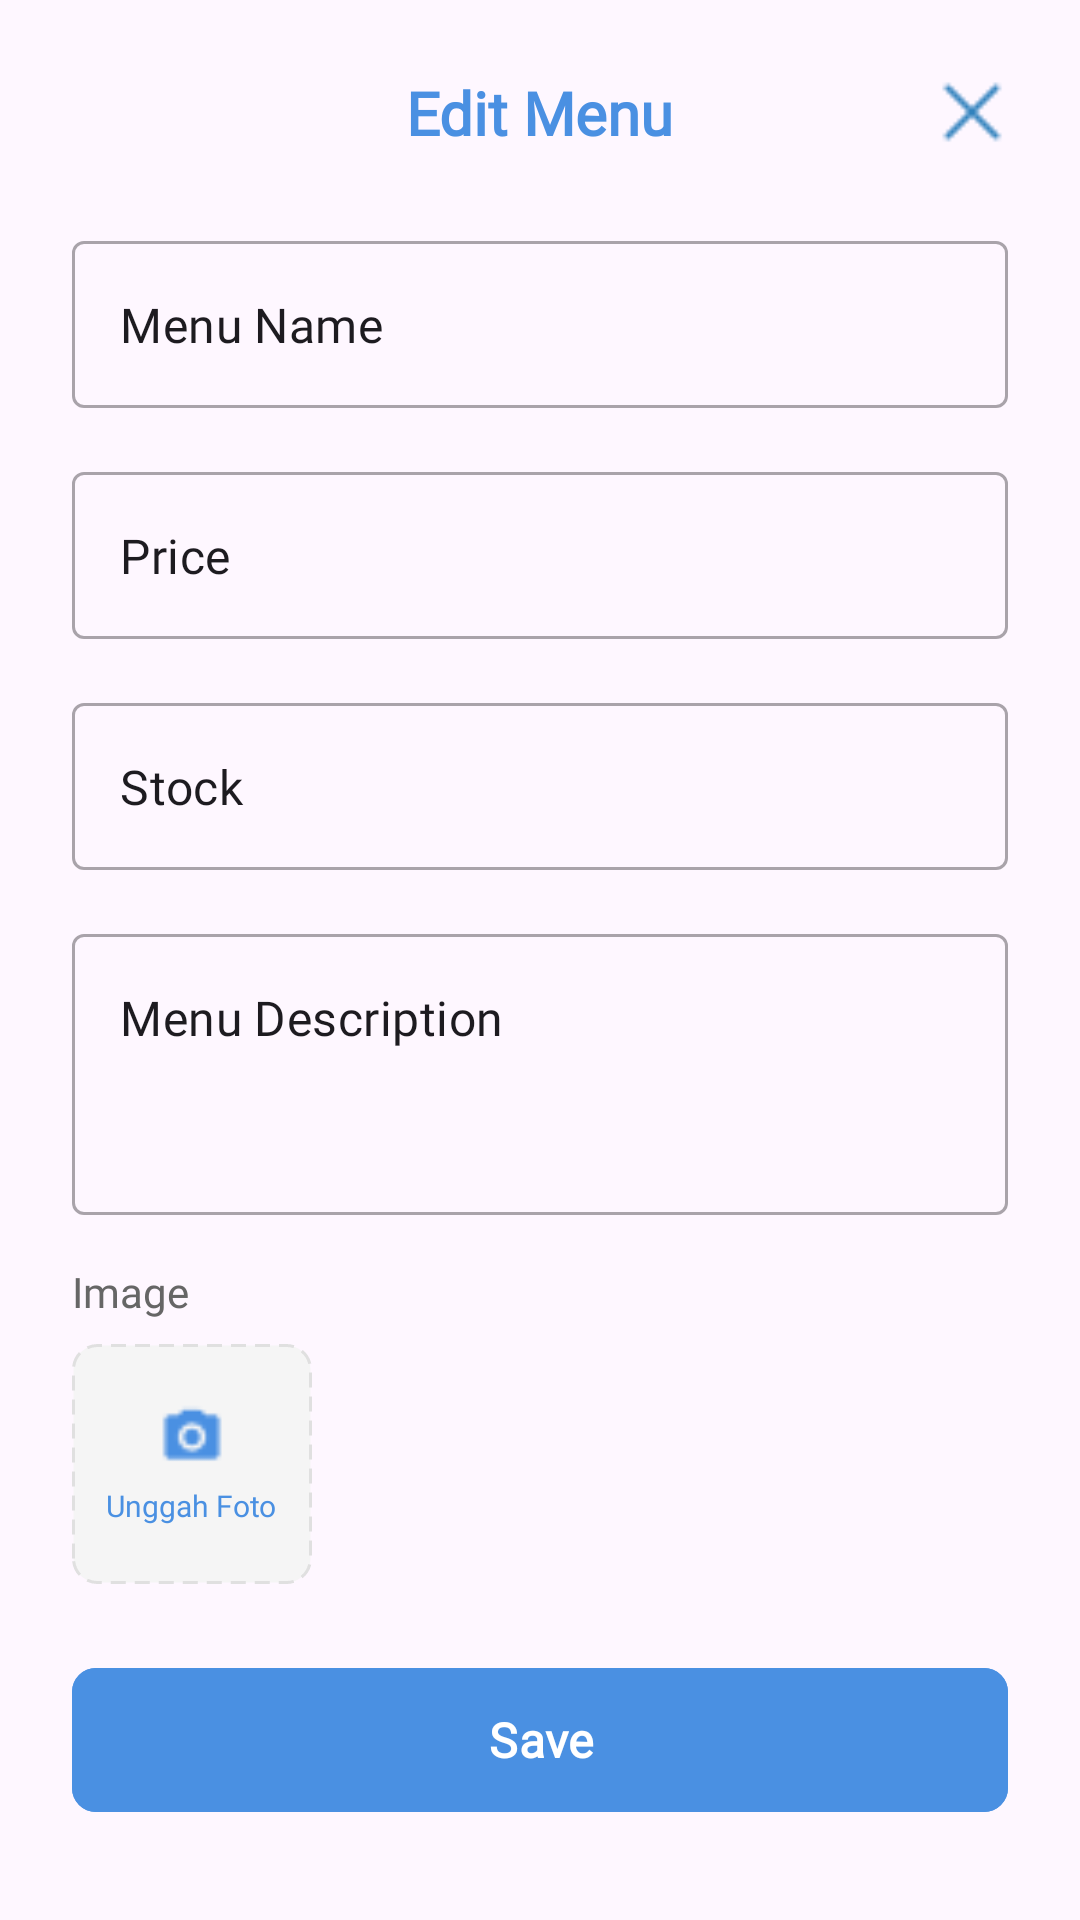

Locate icon controls on the screen. Image size 1080px×1920px, boxes as region(x1, y1, x2, y2).
camera: region(163, 1409, 221, 1461)
close: region(942, 82, 1002, 142)
